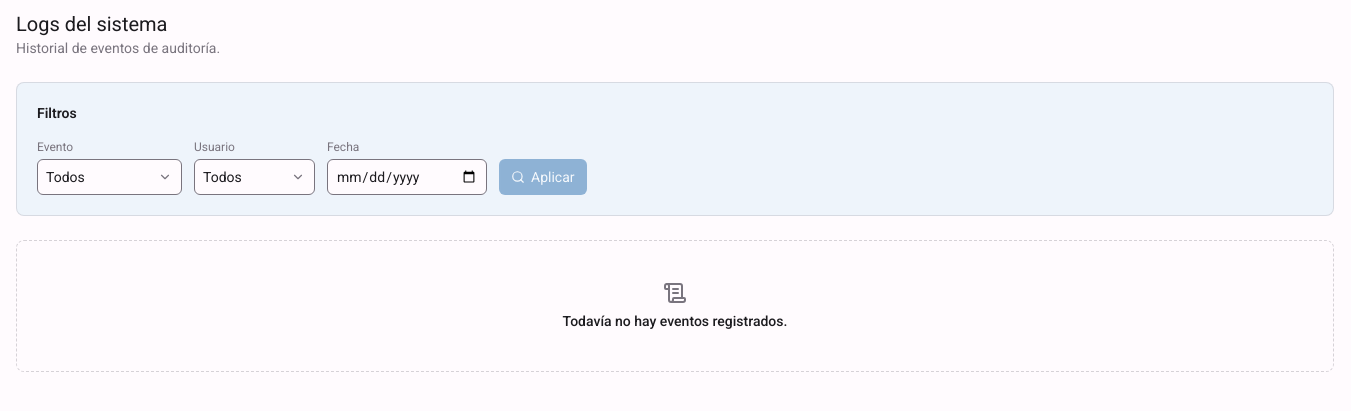
Test: LogsPage › shows a 'no matches' empty state when a filter is active and the page comes back empty
Select "user.created" in the dropdown labelled "Evento" at point(110, 177), box [37,159,182,195]
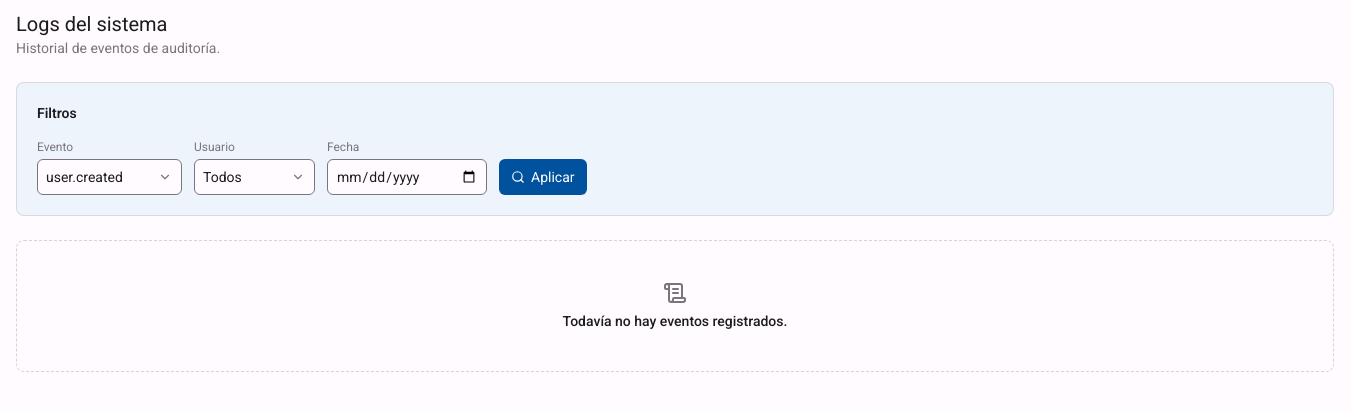
Click the button "Aplicar" at point(543, 177), box [499,159,586,195]
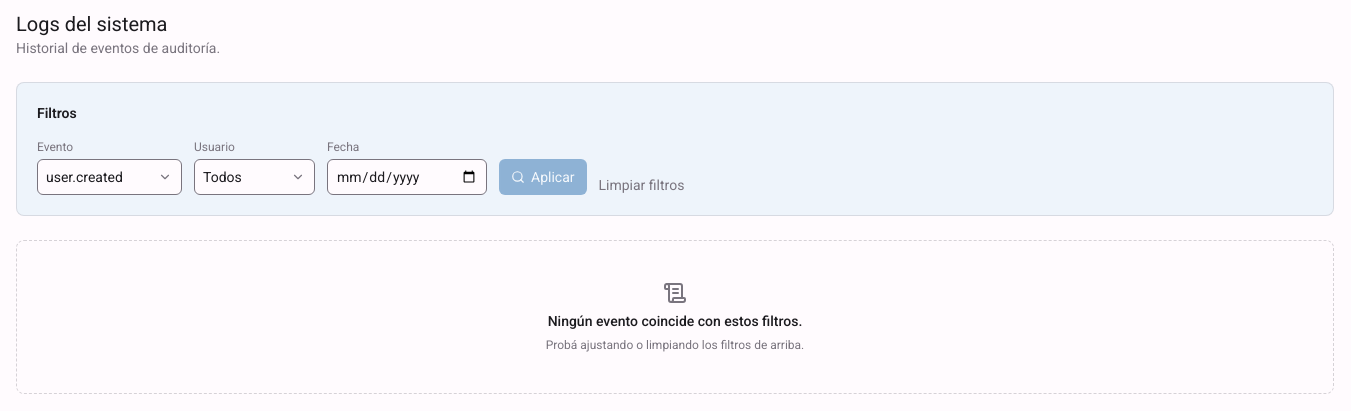
Expected: the text "Ningún evento coincide con estos filtros." is shown, [548,311,802,331]
